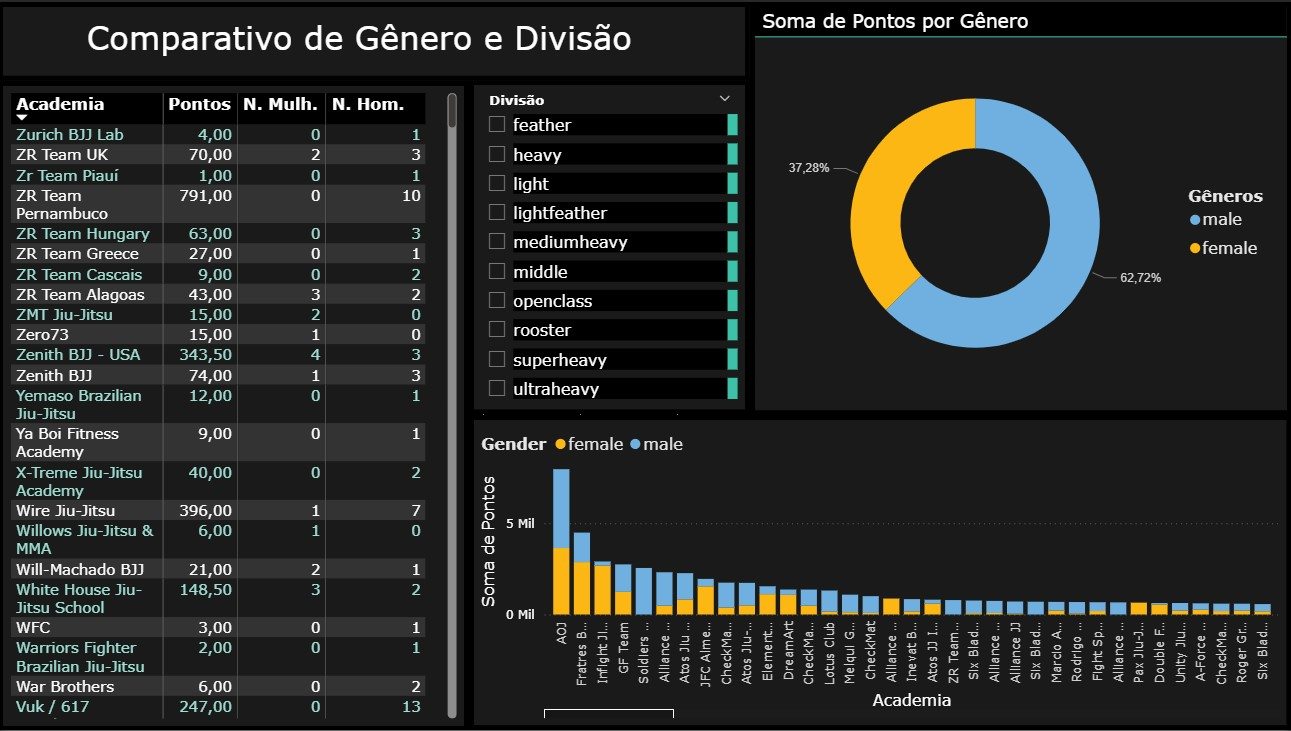

What the dashboard file says about the page in this screenshot:
{"tool":"powerbi","page":{"name":"Comparativo de Gênero e Divisão","canvas":[1280,720],"ordinal":1},"visuals":[{"type":"tableEx","fields":{"Values":["atletas.Academy","atletas.Points","Medidas.Numero Mulheres Academia","Medidas.Numero Homens Academia"]},"box":[0,77.9,466.1,642.8],"z":0},{"type":"columnChart","fields":{"Category":["atletas.Academy"],"Y":["atletas.Points"],"Series":["atletas.Gender"]},"box":[466.1,409,813.9,311.7],"z":1000},{"type":"slicer","fields":{"Values":["atletas.Division"]},"box":[466.5,77.5,278.2,331.1],"z":2000},{"type":"donutChart","title":"Soma de Pontos por Gênero","fields":{"Category":["atletas.Gender","atletas.Division"],"Y":["atletas.Points"]},"box":[744.3,0,535.7,409],"z":3000},{"type":"shape","box":[0,0,744.3,77.9],"z":4000},{"type":"textbox","box":[75.1,11.1,564.9,55.7],"z":5000}]}

Visuals, with their boxes in screenshot pixels (x1, y1, x2, y2), scaled from the page's 1280x720 canvas onto the 1291x731 screenshot:
tableEx - atletas.Academy x atletas.Points: bbox(0, 79, 470, 730)
columnChart - atletas.Academy x atletas.Points: bbox(470, 415, 1290, 730)
slicer - atletas.Division: bbox(471, 79, 751, 415)
"Soma de Pontos por Gênero" donutChart: bbox(751, 0, 1290, 415)
shape: bbox(0, 0, 751, 79)
textbox: bbox(76, 11, 646, 68)
